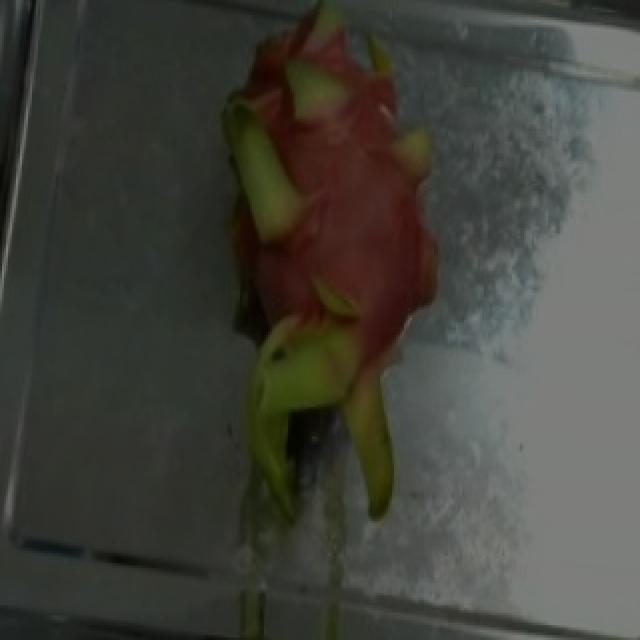fruit: (142, 5, 474, 422)
